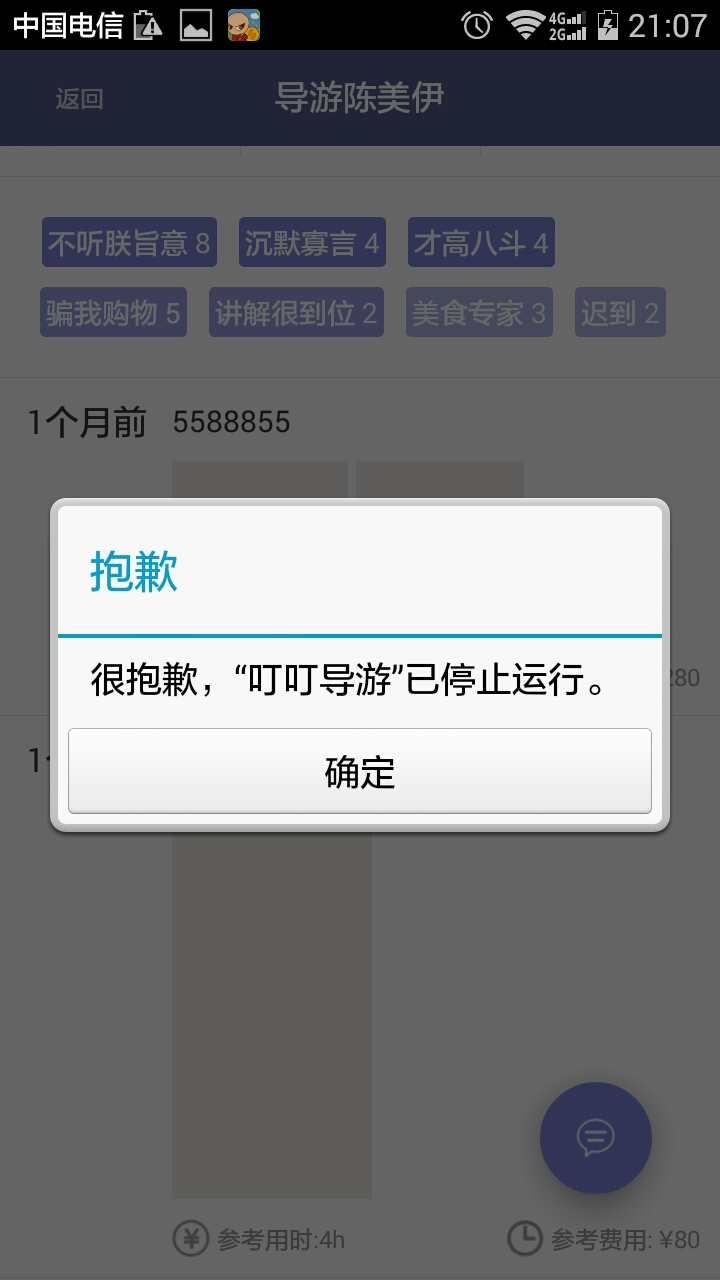alert: (48, 491, 670, 840)
button: (60, 721, 660, 826)
textview: (68, 644, 613, 706)
